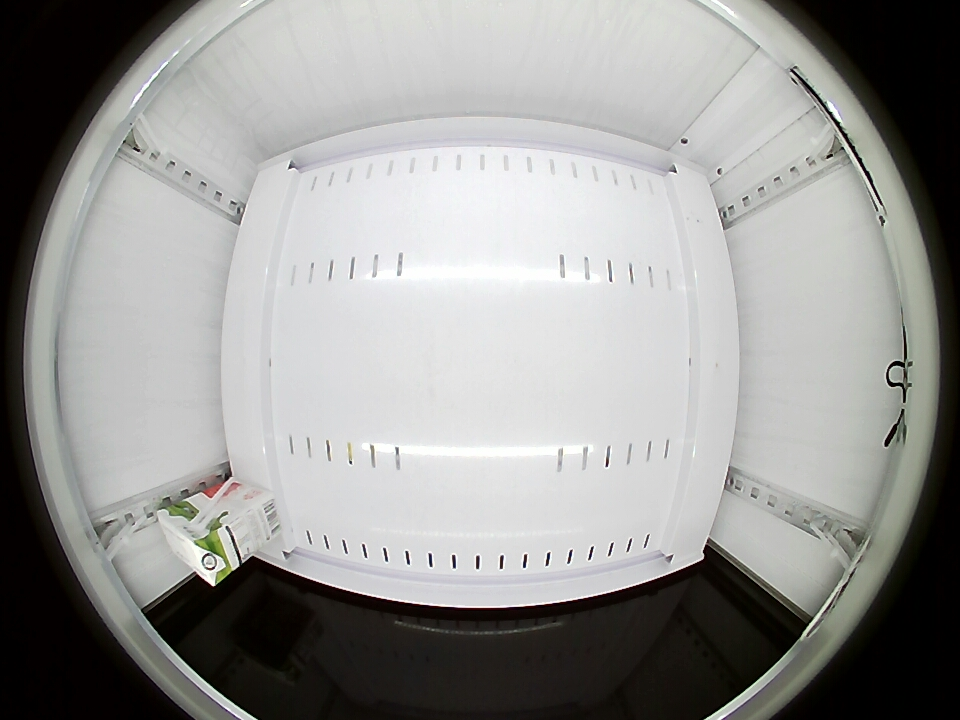mengniu: (157, 500, 235, 588)
